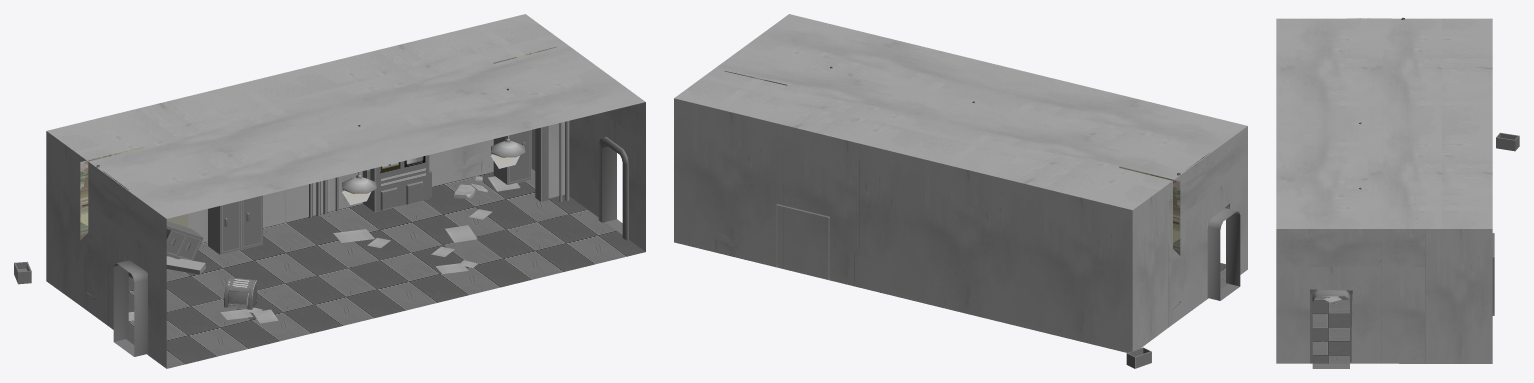
The model's file is MSH_QuestVault_L1_R2_optimized.fbx.
3 views of the same model, side by side, from view 1: azimuth 30°, elevation 25°; view 2: azimuth 150°, elevation 25°; view 3: azimuth 270°, elevation 25° (orthographic). The views are drawn at different scales.
Visible parts, largest first — view 1: lightmap2, lightmap0, lightmap1, MSH_QuestIndustrial_L1_R2_Pipes_01, MSH_QuestIndustrial_L1_R2_Dirt_01; view 2: lightmap2, lightmap0, MSH_QuestIndustrial_L1_R2_Dirt_01, lightmap1; view 3: lightmap0, lightmap2, lightmap1.
Boxes of the visible parts, x1,y1,x2,y2 form: lightmap2: (46,102,645,368); lightmap0: (47,14,645,356); lightmap1: (14,130,531,309); MSH_QuestIndustrial_L1_R2_Pipes_01: (86,121,569,299); MSH_QuestIndustrial_L1_R2_Dirt_01: (80,46,556,261); lightmap2: (674,98,1247,352); lightmap0: (674,14,1247,300); MSH_QuestIndustrial_L1_R2_Dirt_01: (724,71,1209,255); lightmap1: (776,204,1151,368); lightmap0: (1276,18,1492,368); lightmap2: (1276,229,1492,363); lightmap1: (1369,132,1519,315).
Size of the model in its own units: 21.09 by 5.99 by 9.59.
